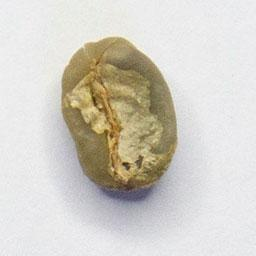premium: (59, 33, 181, 194)
